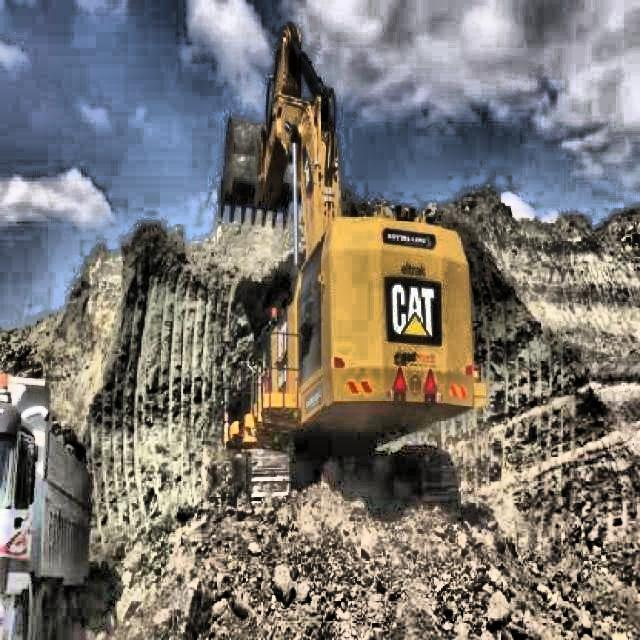dump_truck: (0, 374, 97, 640)
excavator: (218, 20, 490, 534)
